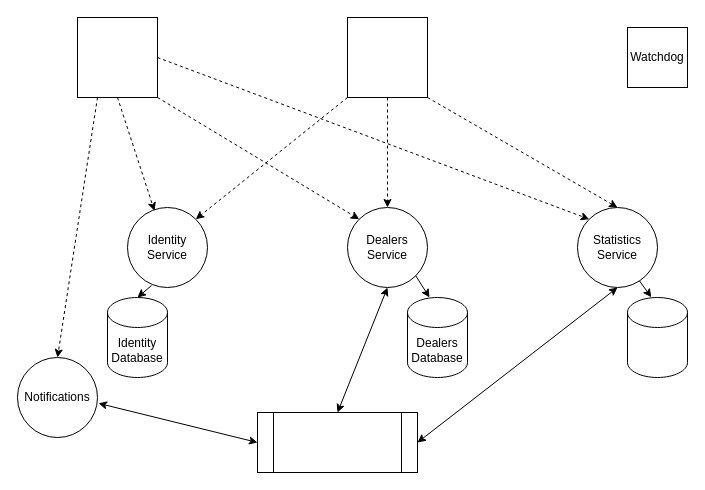
This 705x490 diagram has some shape labels left out. Each missing label, with the centre of its shape:
"Admin Client" goes at (x=387, y=57).
"Event Bus" goes at (x=337, y=442).
"Statistics Database" goes at (x=657, y=337).
"User Client" goes at (x=117, y=57).
